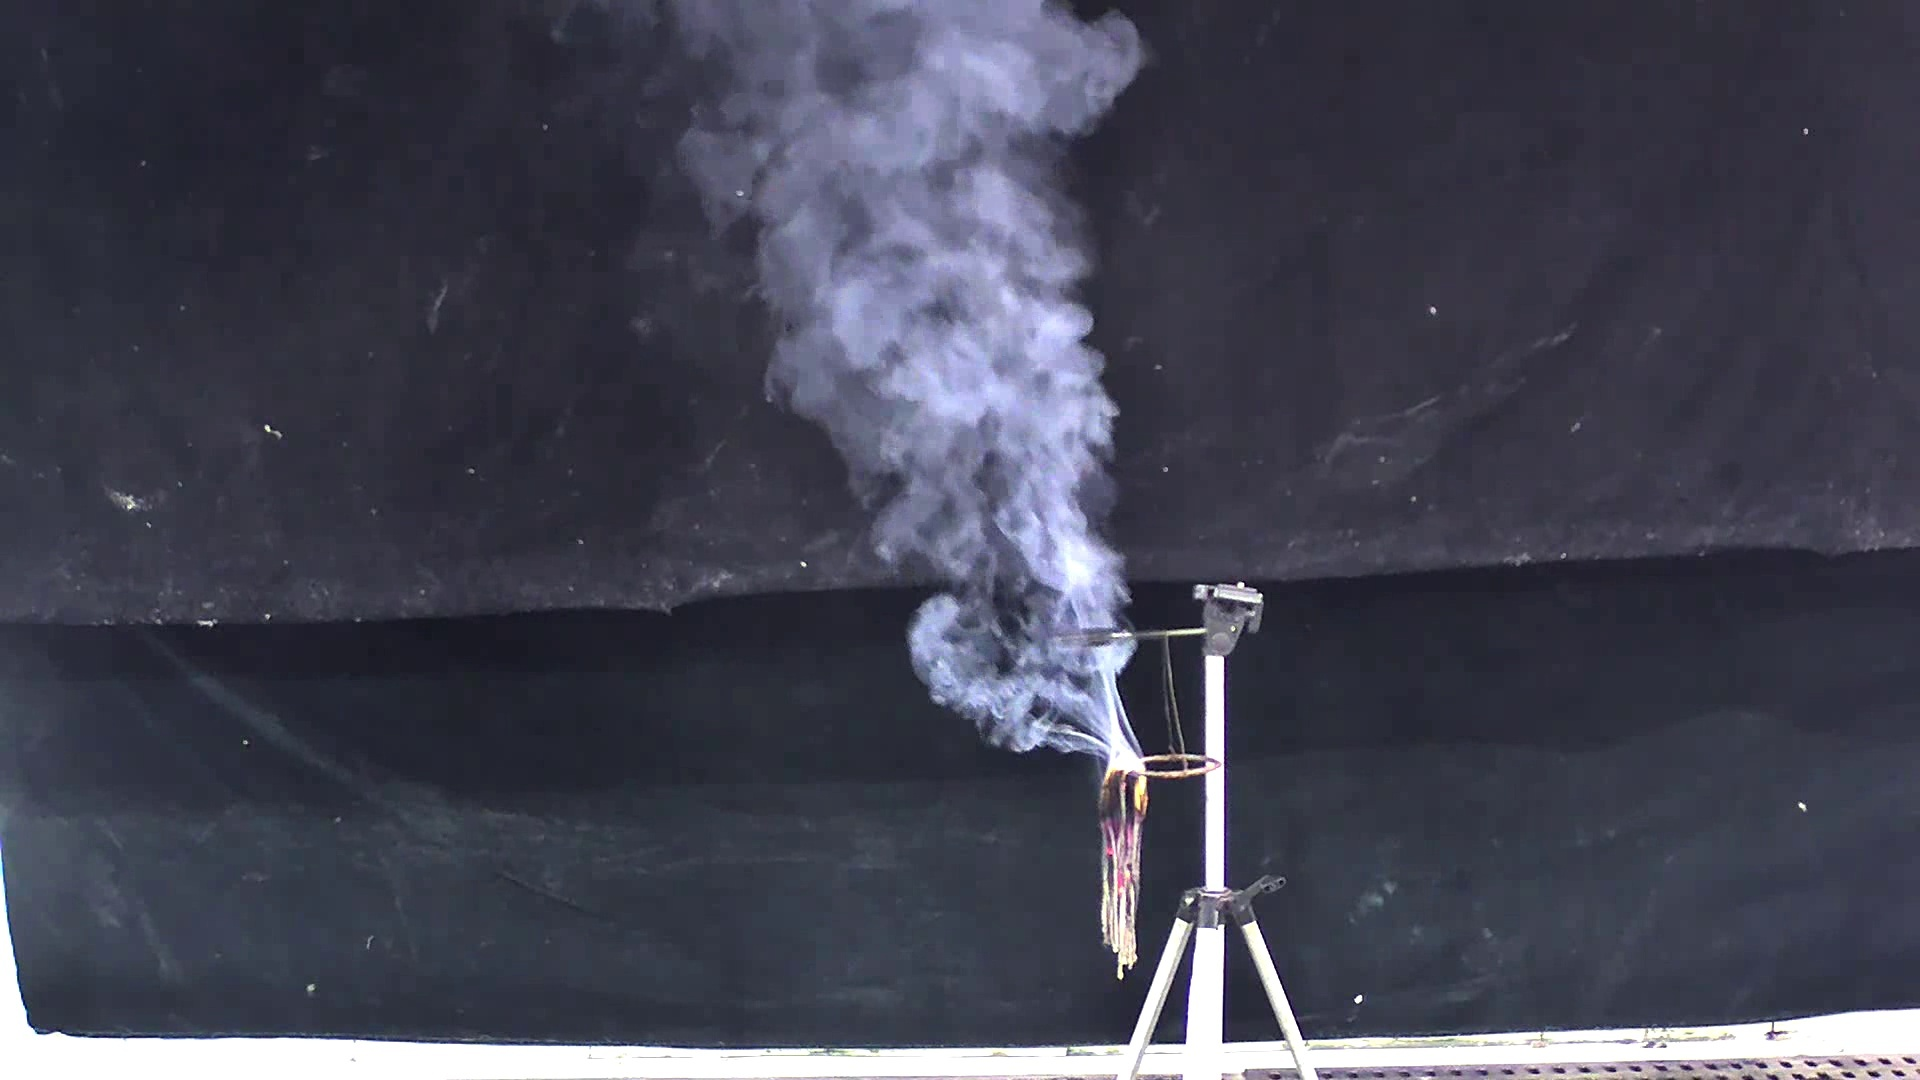smoke: (676, 13, 1179, 786)
